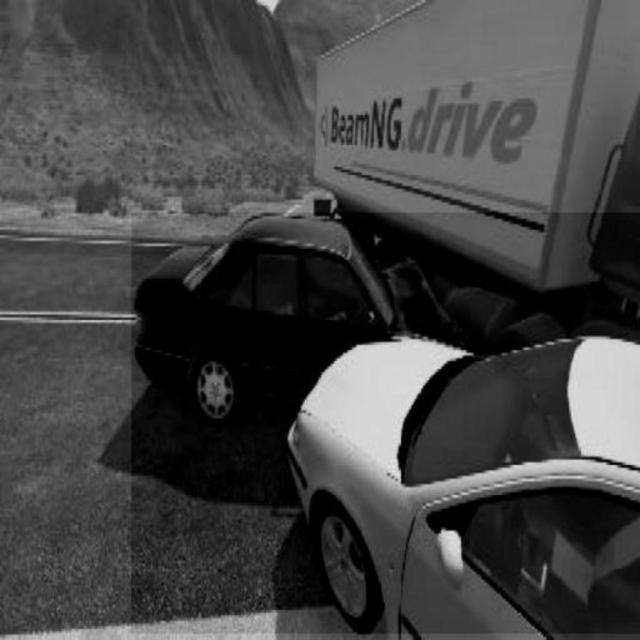accident: (131, 213, 639, 634)
